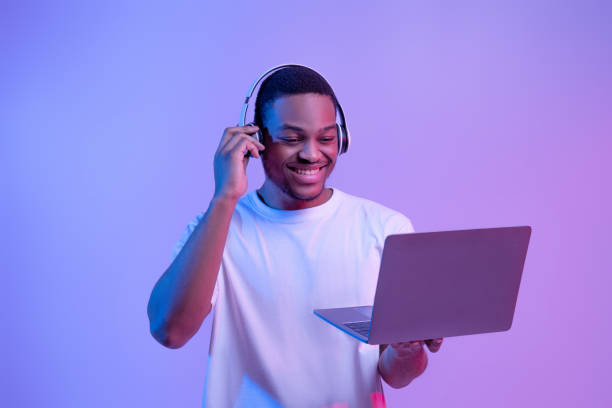without mask: (257, 91, 350, 202)
